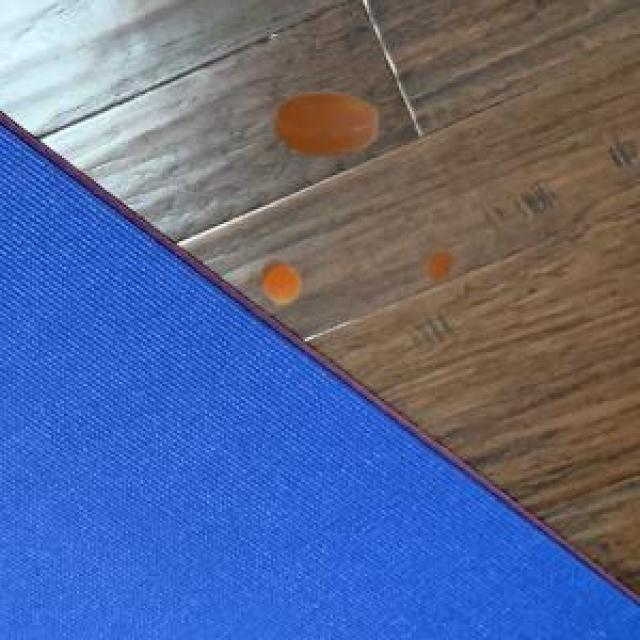Bactidol: (263, 77, 393, 169), (256, 254, 306, 315), (414, 248, 464, 291)
